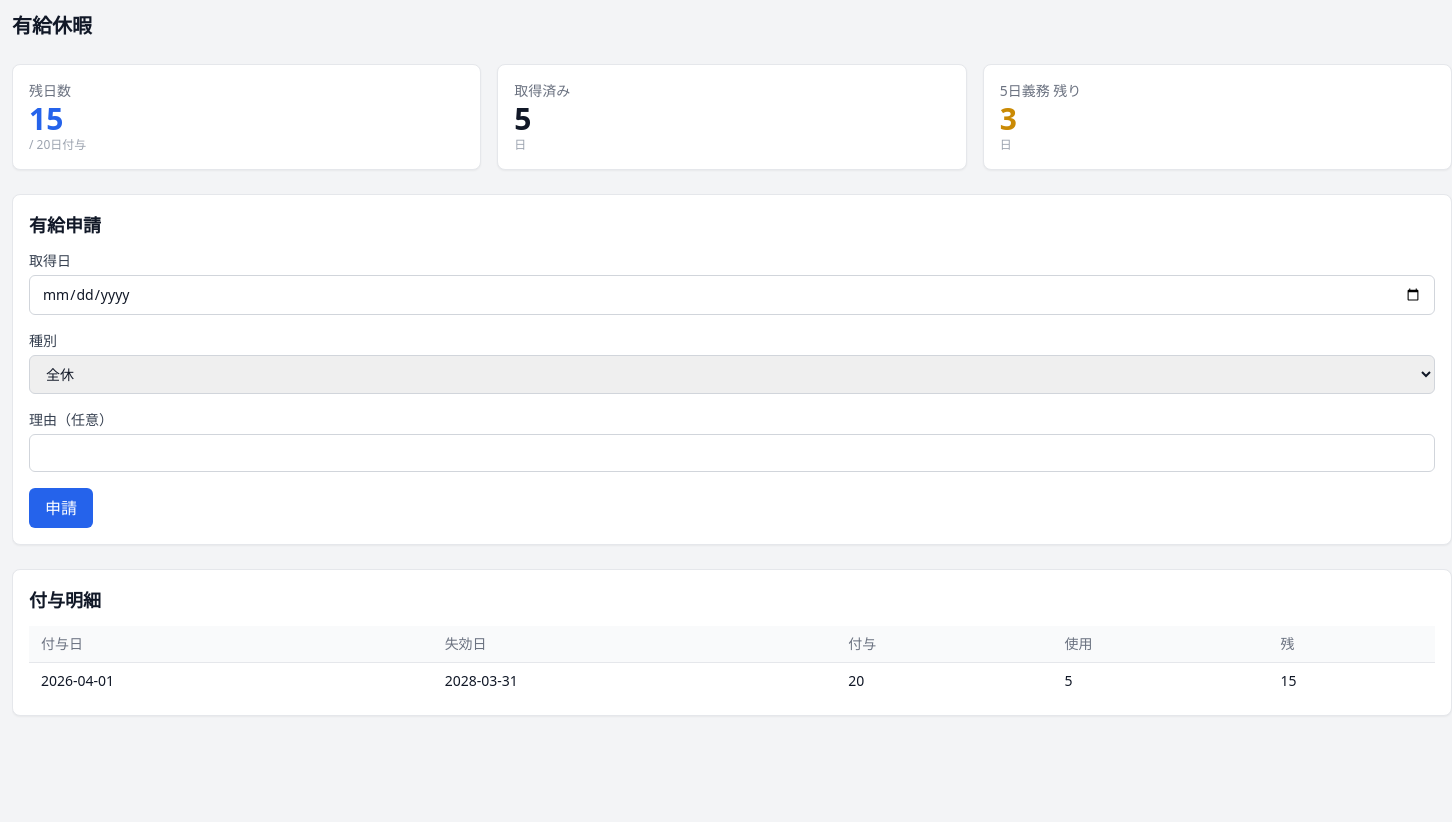
LeavesPage › バリデーションエラー: 日付未入力で申請ボタンを押すとエラー表示
Step 1. Click the button "申請" → (61,508), box [29, 488, 93, 528]
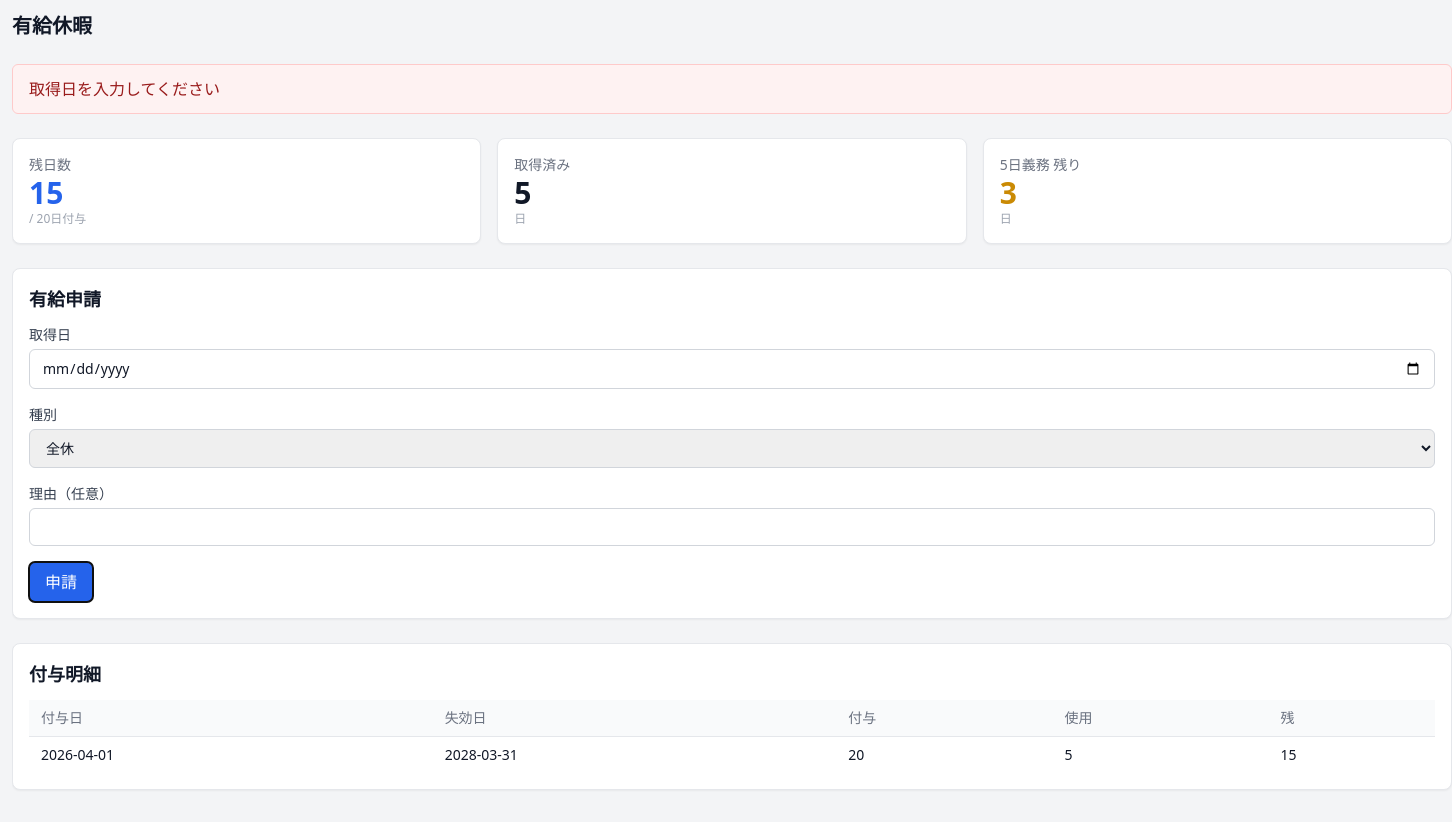
Expected: the text "取得日を入力してください" is shown, [12, 64, 1451, 114]
